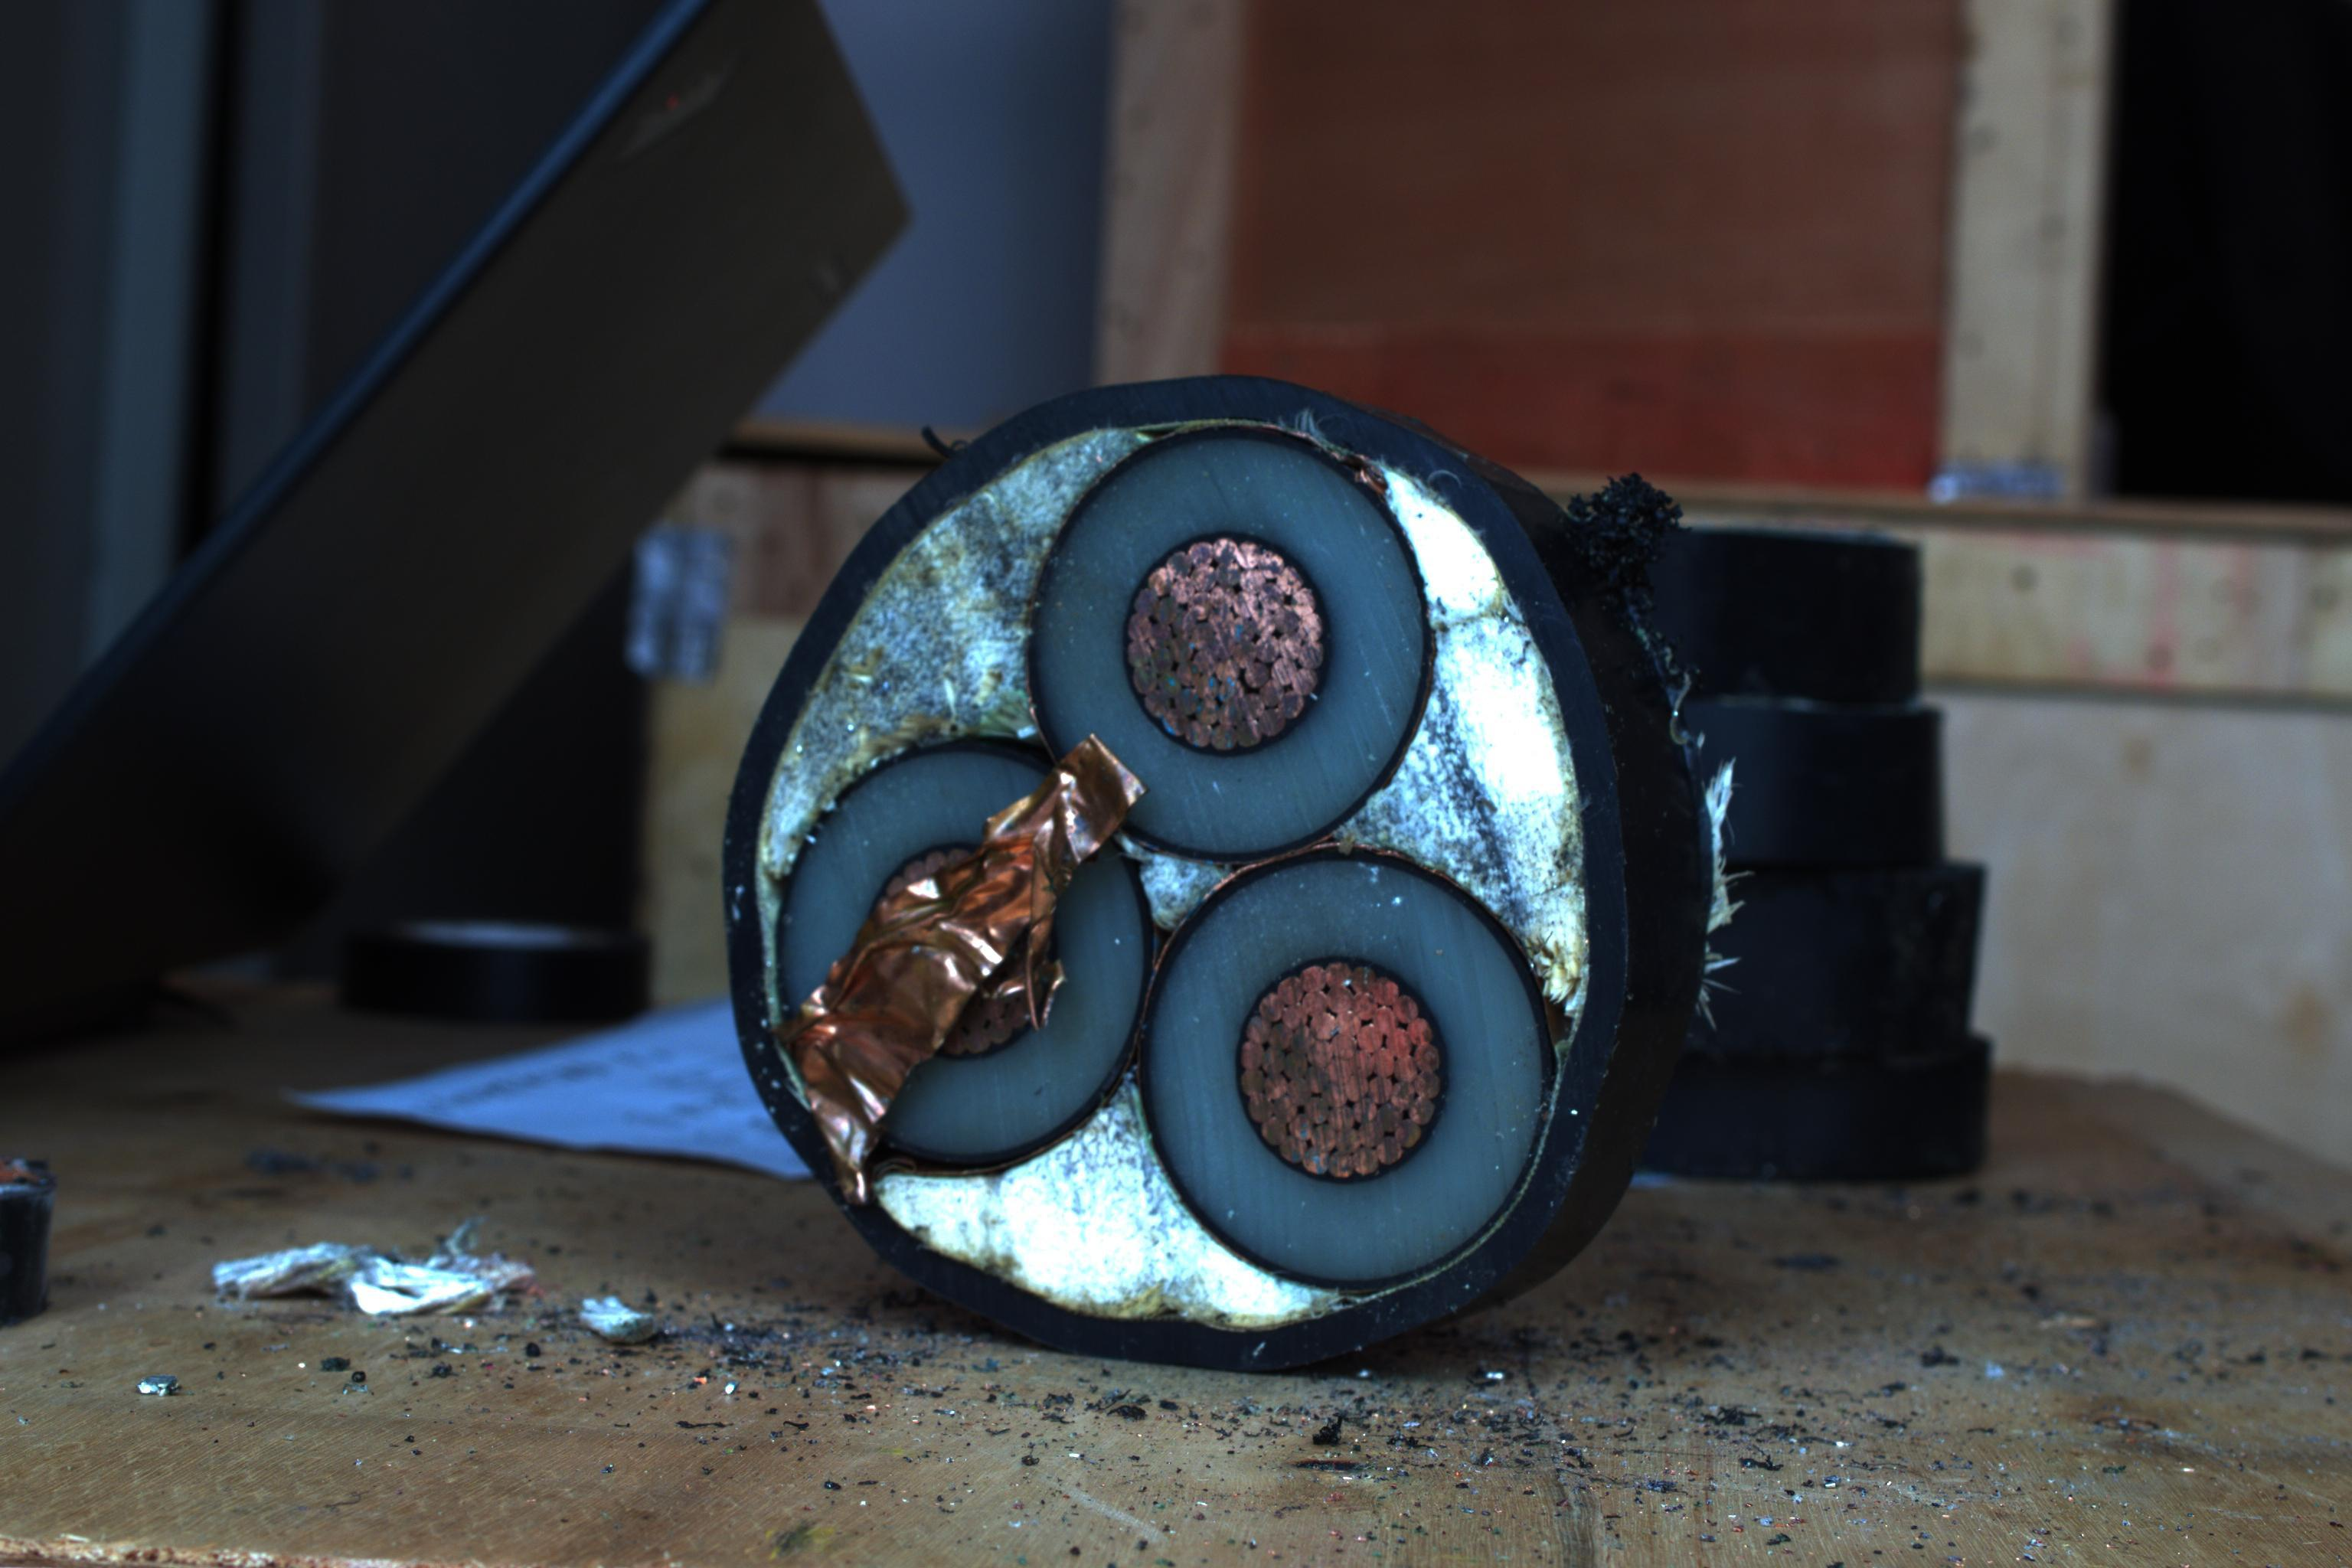ZA_YJV_26_35kV_3x400: (682, 380, 1631, 1382)
